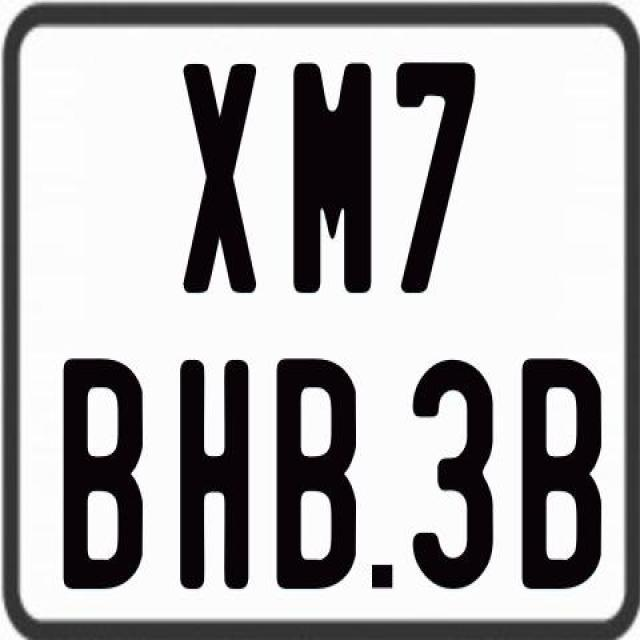3: (414, 355, 498, 587)
7: (396, 60, 482, 295)
B: (519, 359, 605, 596), (273, 354, 355, 592), (63, 358, 141, 592)
H: (180, 360, 248, 598)
M: (293, 59, 375, 291)
X: (180, 64, 258, 299)
